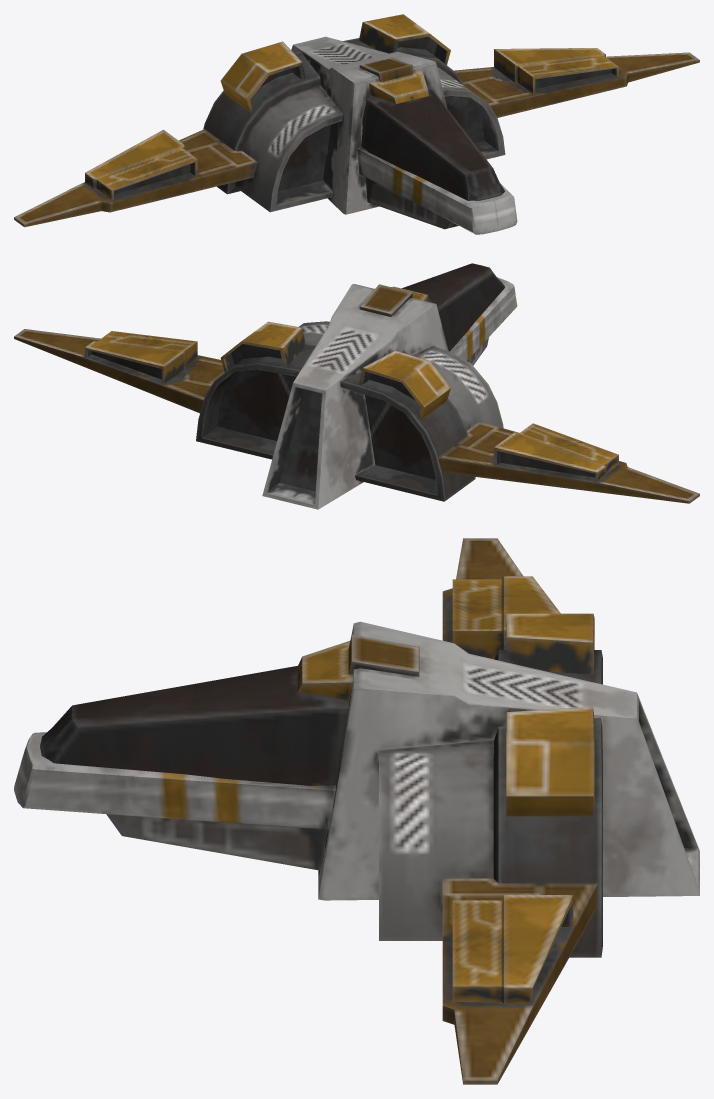
The model's file is nave_bob.glb.
The picture shows the model from 3 angles, top to bottom: view 1: azimuth 30°, elevation 25°; view 2: azimuth 150°, elevation 25°; view 3: azimuth 270°, elevation 25°; orthographic projection. The views are drawn at different scales.
Visible parts, largest first — view 1: Bob; view 2: Bob; view 3: Bob.
Part boxes in pixels (x1,y1,x2,y2): Bob: (14, 14, 699, 234); Bob: (14, 263, 699, 509); Bob: (14, 538, 699, 1084).
Bounding box in the file's own units: 10.5 × 2.04 × 5.61.
Materials: 1 (1 with a texture image).
